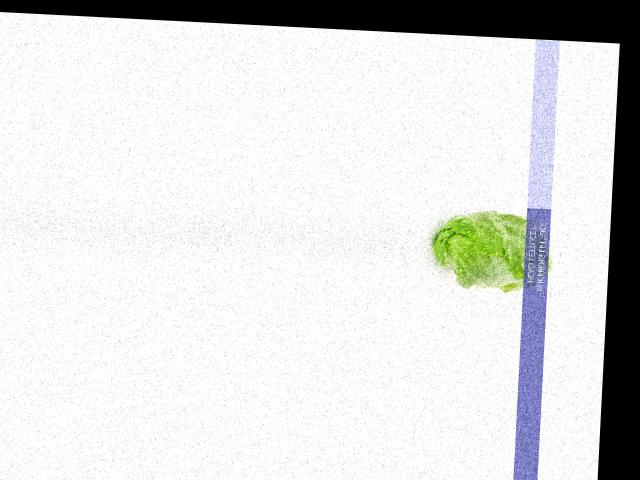lettuce: (425, 210, 554, 294)
